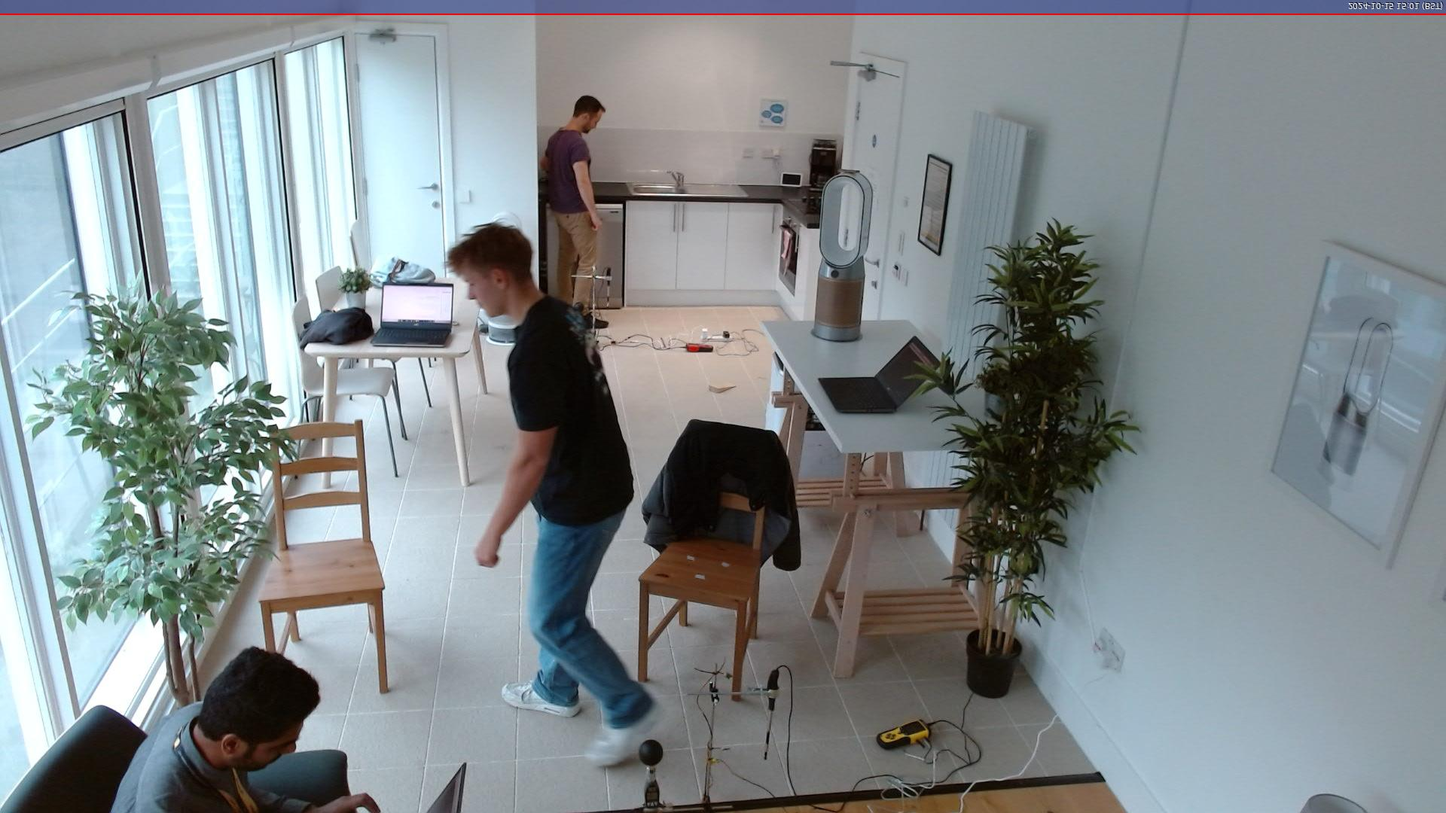long sleeve shirt: (107, 697, 315, 813)
short sleeve shirt: (504, 302, 638, 529), (543, 129, 595, 214)
trousers: (523, 501, 651, 724), (550, 203, 602, 314)
